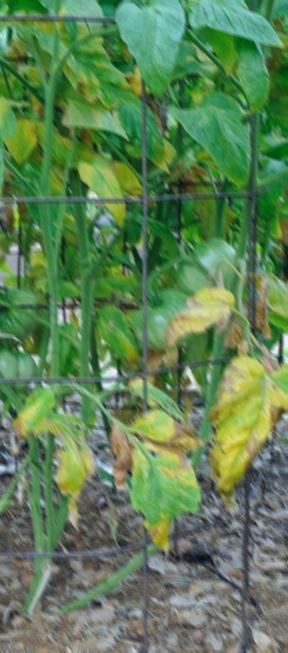Tomato Early blight leaf: (0, 390, 99, 521), (111, 411, 201, 552), (210, 353, 278, 488), (160, 283, 232, 361), (77, 161, 127, 225), (5, 113, 41, 164)
Tomato leaf: (118, 0, 184, 104), (183, 88, 252, 183), (191, 0, 281, 40)
